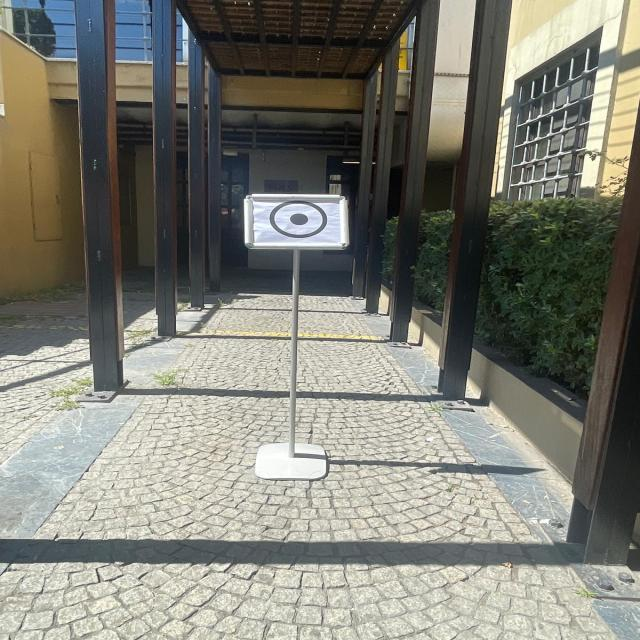Target: (232, 185, 363, 254)
inner: (281, 207, 322, 233)
